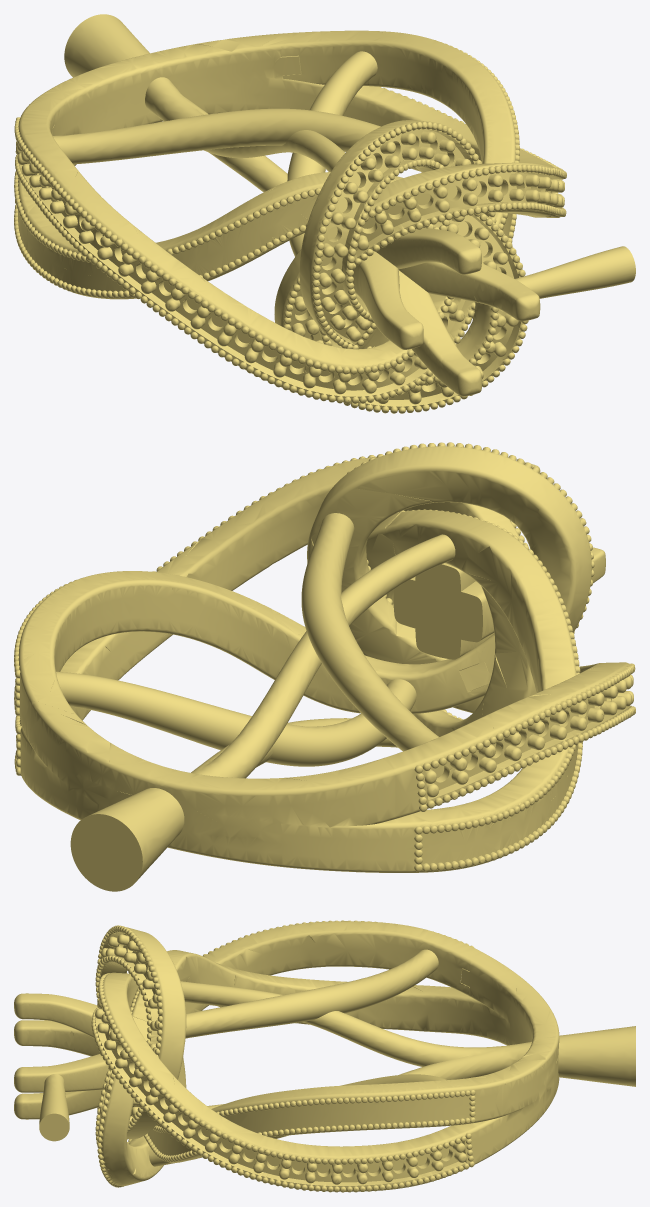
The picture shows the model from 3 angles, top to bottom: view 1: azimuth 30°, elevation 25°; view 2: azimuth 150°, elevation 25°; view 3: azimuth 270°, elevation 25°; orthographic projection. The views are drawn at different scales.
Parts seen in each view (by area): view 1: Renderer Node; view 2: Renderer Node; view 3: Renderer Node.
Part boxes in pixels (bbox=[...]): Renderer Node: bbox=[14, 14, 635, 413]; Renderer Node: bbox=[14, 442, 635, 891]; Renderer Node: bbox=[14, 920, 635, 1192].
Size of the model in its own units: 22.26 by 13.19 by 31.53.
